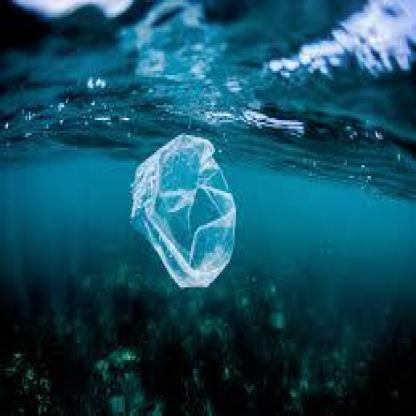pbag: (129, 133, 236, 287)
